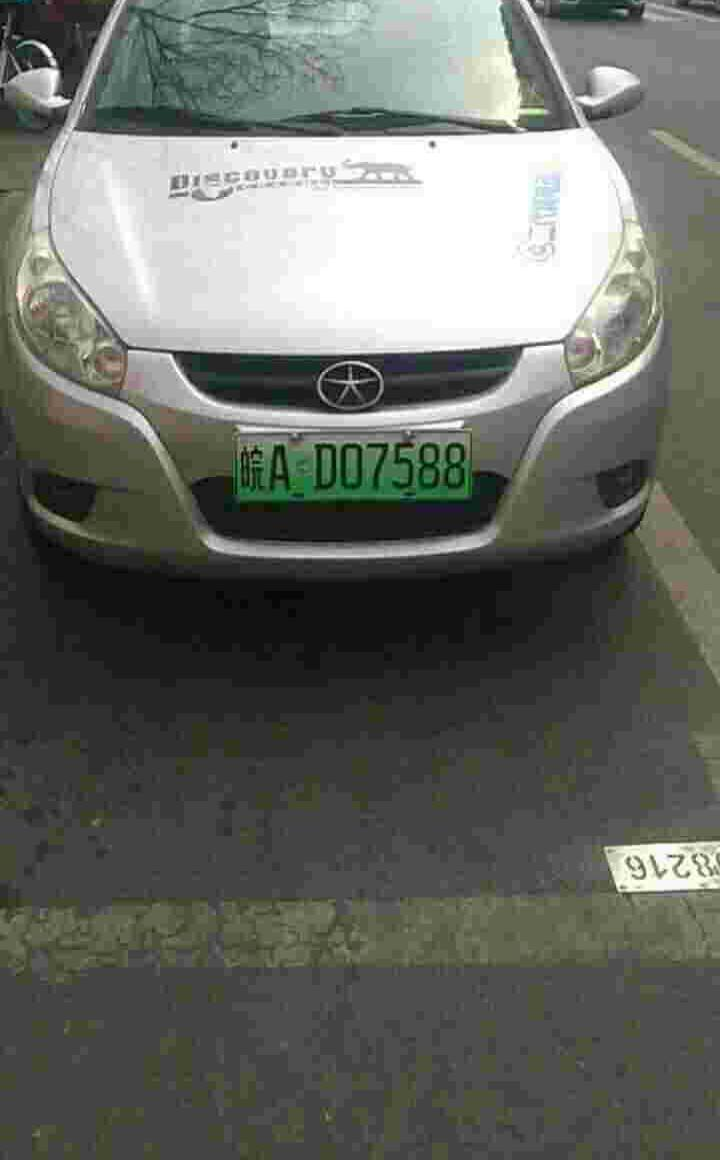car_id: (235, 431, 471, 500)
